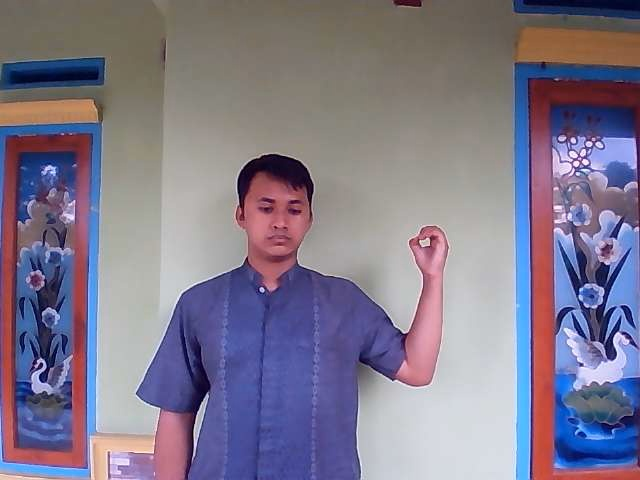O: (405, 223, 451, 280)
